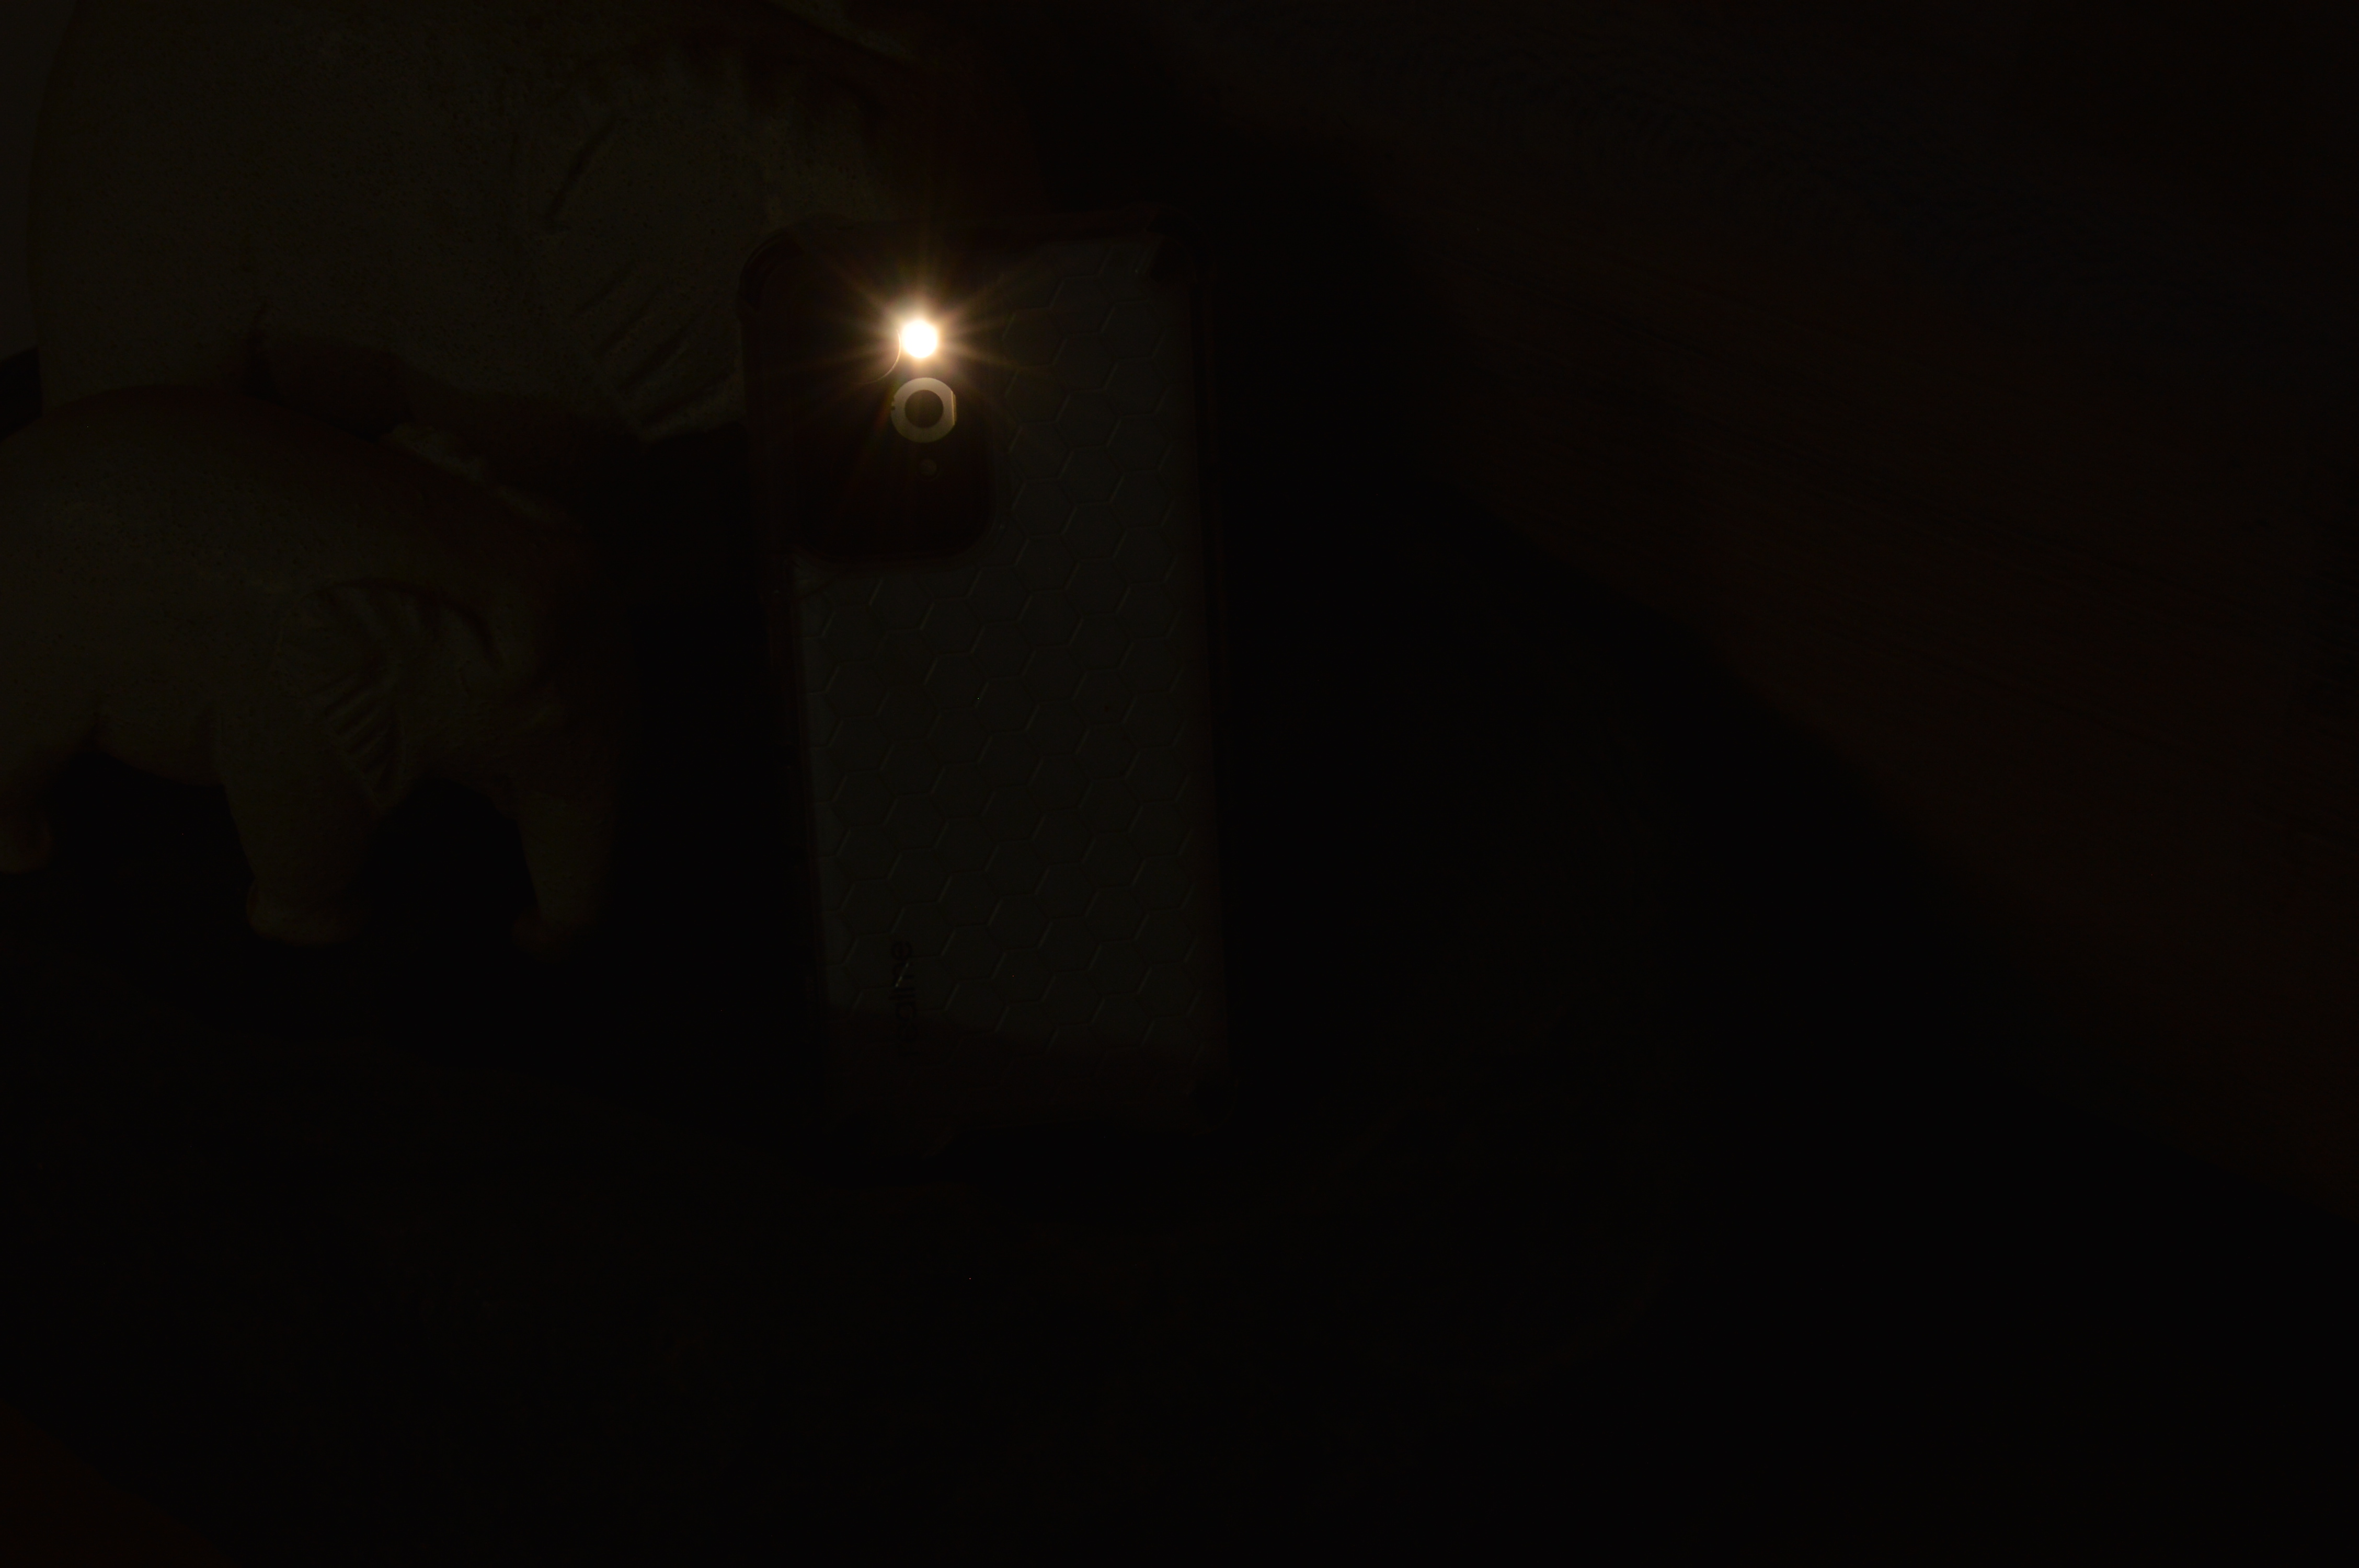Glare: (896, 313, 957, 371)
